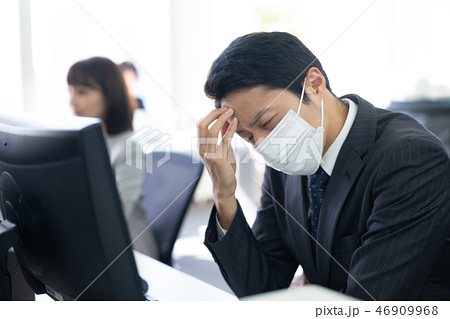mask: (245, 117, 328, 180)
